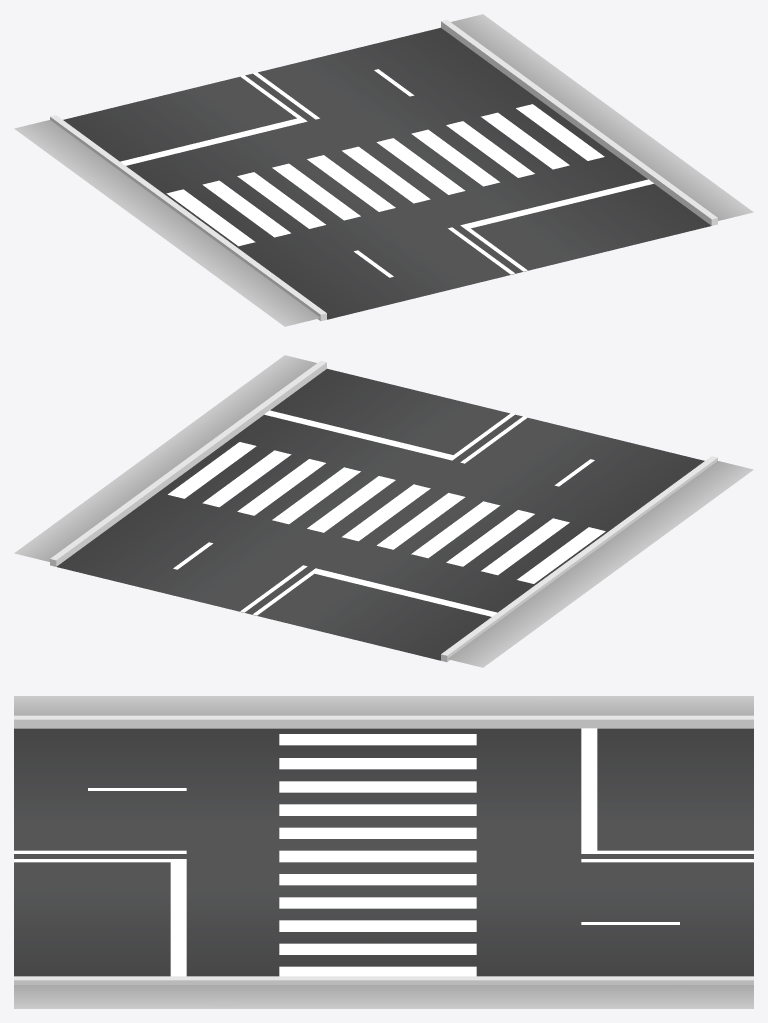
The model's file is road_004.glb.
3 views of the same model, one above another, from view 1: azimuth 30°, elevation 25°; view 2: azimuth 150°, elevation 25°; view 3: azimuth 270°, elevation 25° (orthographic). The views are drawn at different scales.
Visible parts, largest first — view 1: road_004; view 2: road_004; view 3: road_004.
Boxes of the visible parts, x1,y1,x2,y2 form: road_004: (14, 14, 753, 326); road_004: (14, 355, 753, 667); road_004: (14, 696, 753, 1008).
Bounding box in the file's own units: 15 × 0.2 × 15.
1 material, 1 textured.
